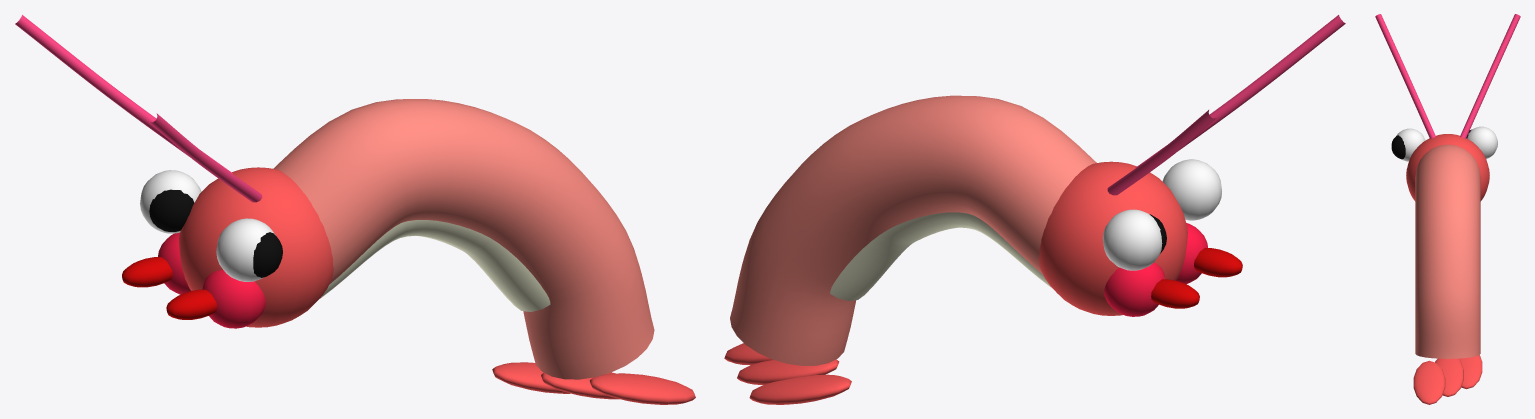
File: udang.glb
3 views of the same model, side by side, from view 1: azimuth 30°, elevation 25°; view 2: azimuth 150°, elevation 25°; view 3: azimuth 270°, elevation 25° (orthographic). The views are drawn at different scales.
Size of the model in its own units: 1.54 by 1.15 by 0.6258.
